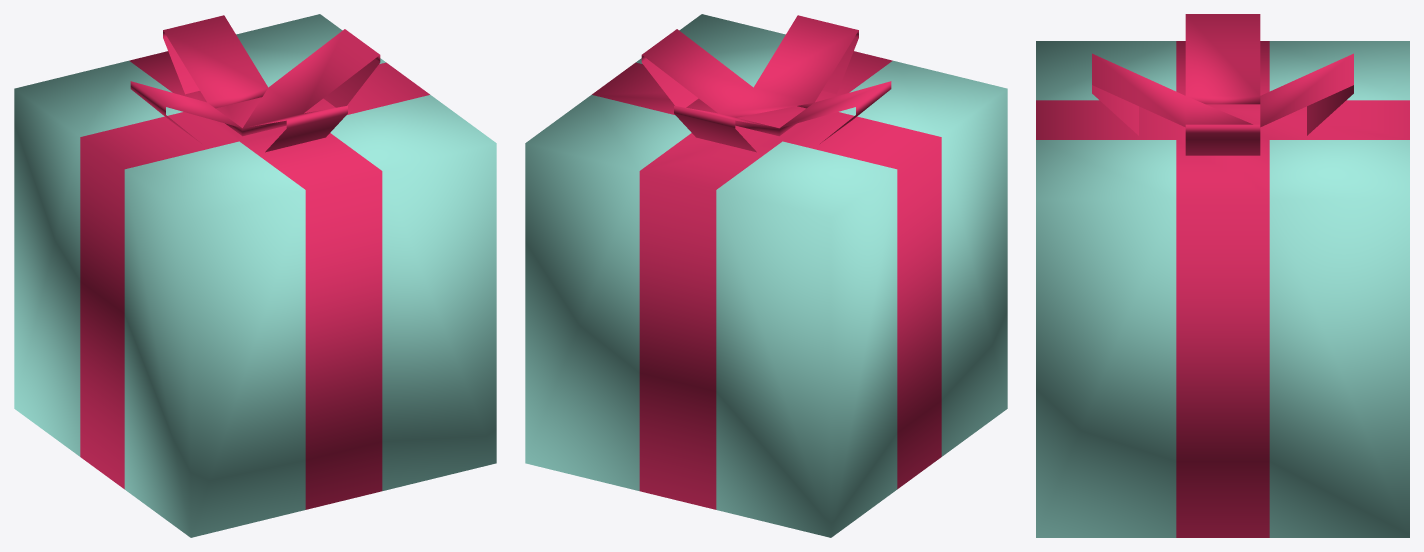
The model's file is GiftBox.fbx.
The picture shows the model from 3 angles, left to right: view 1: azimuth 30°, elevation 25°; view 2: azimuth 150°, elevation 25°; view 3: azimuth 270°, elevation 25°; orthographic projection. The views are drawn at different scales.
Parts seen in each view (by area): view 1: Body, Head; view 2: Body, Head; view 3: Body, Head.
Boxes of the visible parts, x1,y1,x2,y2 form: Body: (14,14,496,537); Head: (130,15,380,152); Body: (525,14,1007,537); Head: (641,15,891,152); Body: (1036,41,1409,537); Head: (1092,14,1353,155).
Size of the model in its own units: 200 by 230 by 200.
